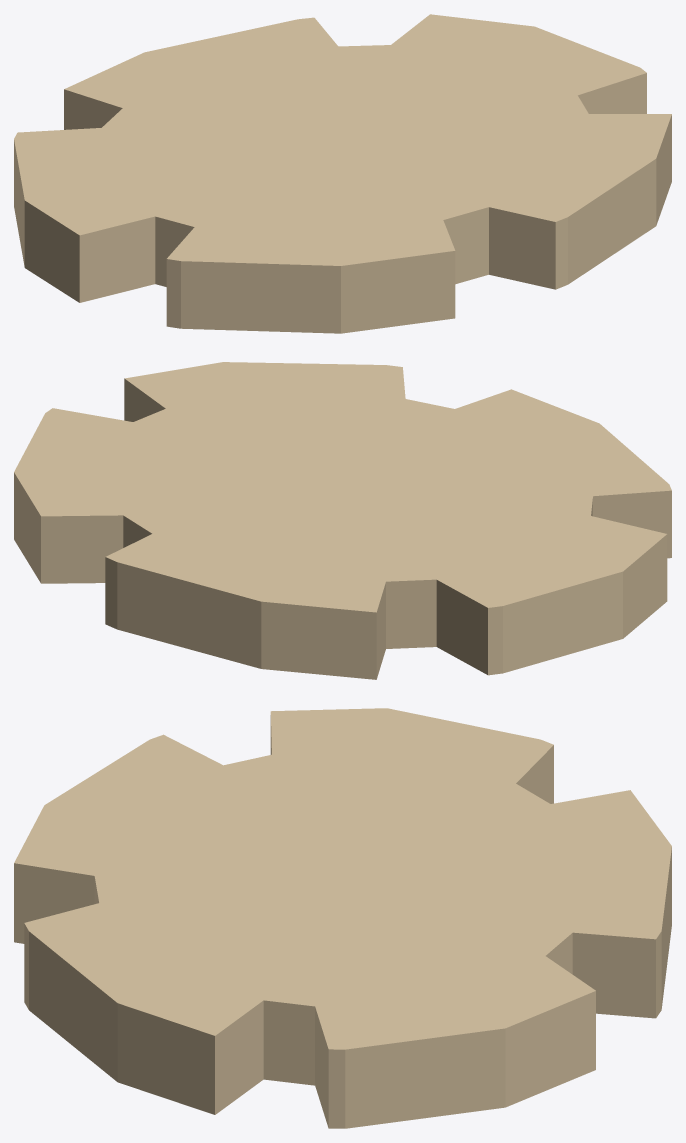
Rendered from prop-arrow-spacer-blank.fbx.
3 renders of one model, top to bottom at view 1: azimuth 30°, elevation 25°; view 2: azimuth 150°, elevation 25°; view 3: azimuth 270°, elevation 25°, orthographic. The views are drawn at different scales.
Parts seen in each view (by area): view 1: prop-arrow-spacer-blank; view 2: prop-arrow-spacer-blank; view 3: prop-arrow-spacer-blank.
Part boxes in pixels (x1,y1,x2,y2): prop-arrow-spacer-blank: (14,14,671,333); prop-arrow-spacer-blank: (14,362,671,679); prop-arrow-spacer-blank: (14,708,671,1128).
Size of the model in its own units: 12.95 by 1.4 by 10.54.
